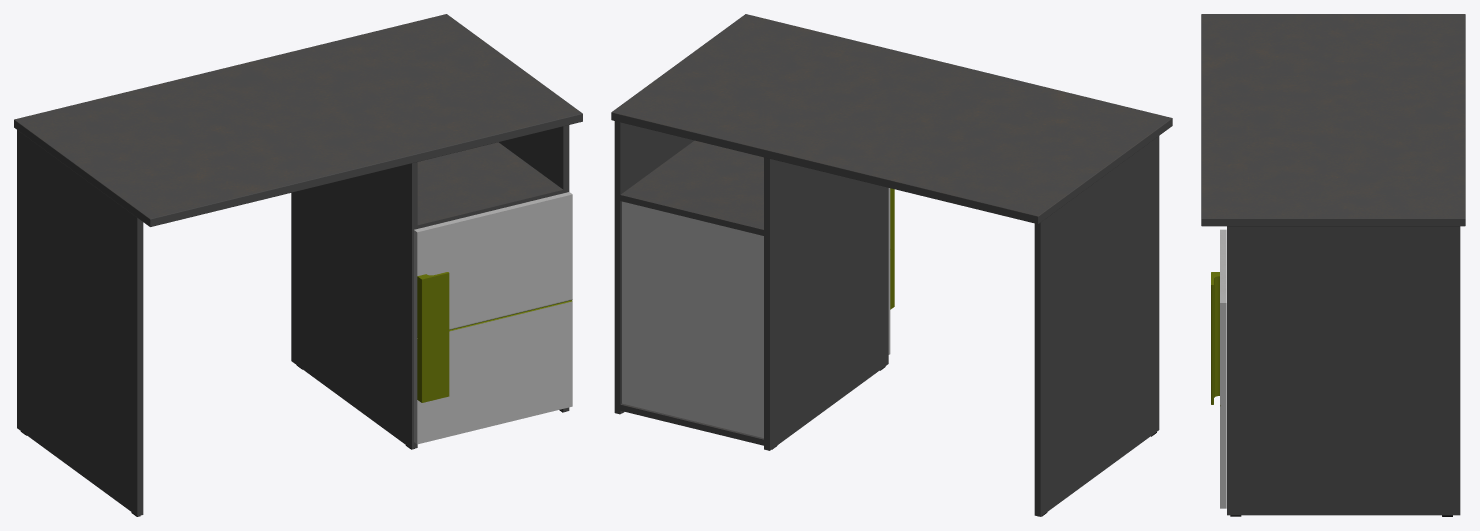
File: desk.glb
3 renders of one model, left to right at view 1: azimuth 30°, elevation 25°; view 2: azimuth 150°, elevation 25°; view 3: azimuth 270°, elevation 25°, orthographic. The views are drawn at different scales.
Visible parts, largest first — view 1: bedroom_desk; view 2: bedroom_desk; view 3: bedroom_desk.
Boxes of the visible parts, bbox=[...] form: bedroom_desk: bbox=[14, 14, 582, 516]; bedroom_desk: bbox=[611, 14, 1172, 516]; bedroom_desk: bbox=[1201, 14, 1465, 516].
Size of the model in its own units: 1.1 by 0.75 by 0.6.
1 material, 1 textured.
